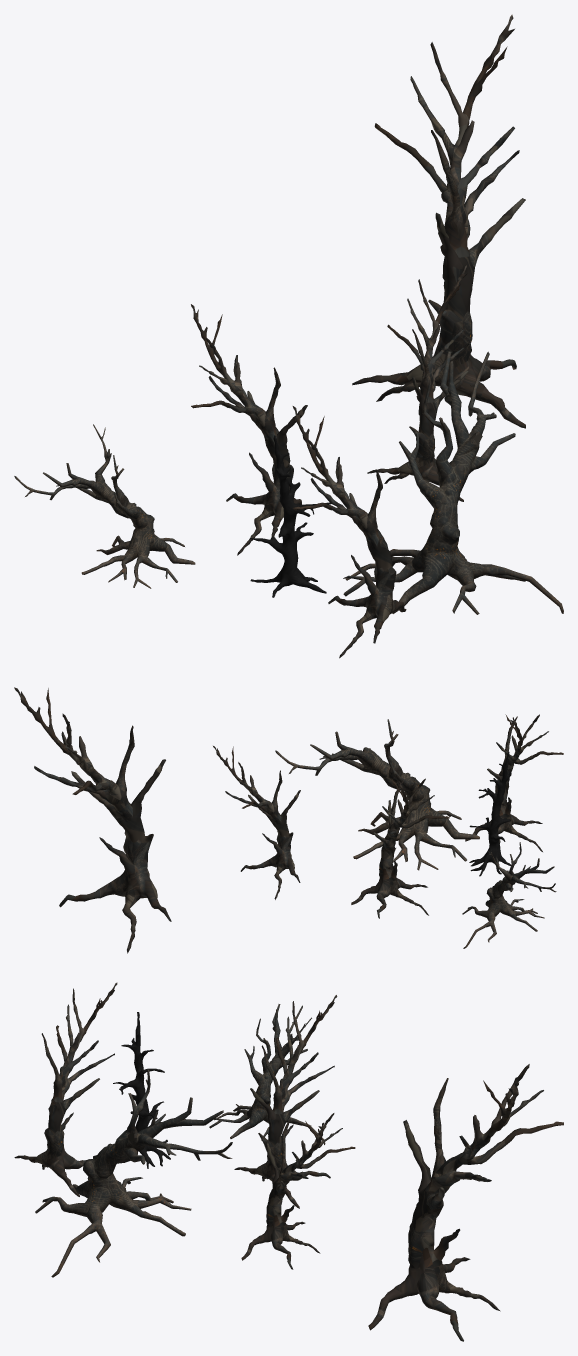
Rendered from Environment.fbx.
The picture shows the model from 3 angles, top to bottom: view 1: azimuth 30°, elevation 25°; view 2: azimuth 150°, elevation 25°; view 3: azimuth 270°, elevation 25°; orthographic projection. The views are drawn at different scales.
Visible parts, largest first — view 1: tree9, tree3, tree7, tree5, tree10, tree8, tree1; view 2: tree9, tree3, tree5, tree8, tree10, tree7, tree1; view 3: tree9, tree3, tree7, tree5, tree8, tree10, tree1.
Part boxes in pixels (x1,y1,x2,y2): tree9: (352, 14, 525, 428); tree3: (343, 351, 563, 614); tree7: (292, 406, 406, 658); tree5: (191, 304, 307, 555); tree10: (14, 424, 195, 588); tree8: (367, 265, 468, 501); tree1: (249, 435, 331, 597); tree9: (14, 687, 171, 953); tree3: (275, 719, 479, 870); tree5: (351, 778, 449, 918); tree8: (213, 746, 300, 899); tree10: (462, 842, 556, 948); tree7: (465, 714, 563, 851); tree1: (469, 751, 511, 876); tree9: (368, 1064, 563, 1341); tree3: (35, 1069, 232, 1277); tree7: (14, 982, 117, 1196); tree5: (234, 995, 337, 1208); tree8: (241, 1113, 355, 1269); tree10: (209, 1004, 325, 1144); tree1: (113, 1012, 170, 1168).
Size of the model in its own units: 3409 by 1787 by 3075.
3 materials, 3 textured.
